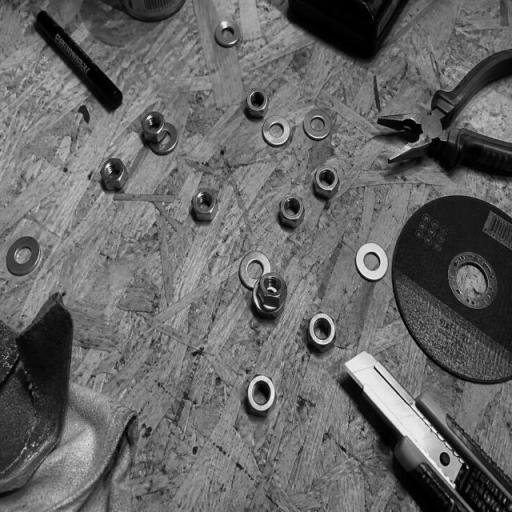Nut: (253, 273, 286, 315), (244, 375, 277, 416), (304, 312, 337, 351), (311, 164, 341, 199), (98, 156, 127, 191), (277, 192, 305, 228), (190, 188, 218, 222), (139, 111, 166, 141), (243, 89, 268, 119)
Washer: (5, 235, 41, 278), (354, 242, 390, 282), (237, 250, 269, 290), (302, 109, 333, 142), (261, 116, 292, 148), (148, 127, 178, 157), (214, 20, 239, 48)
